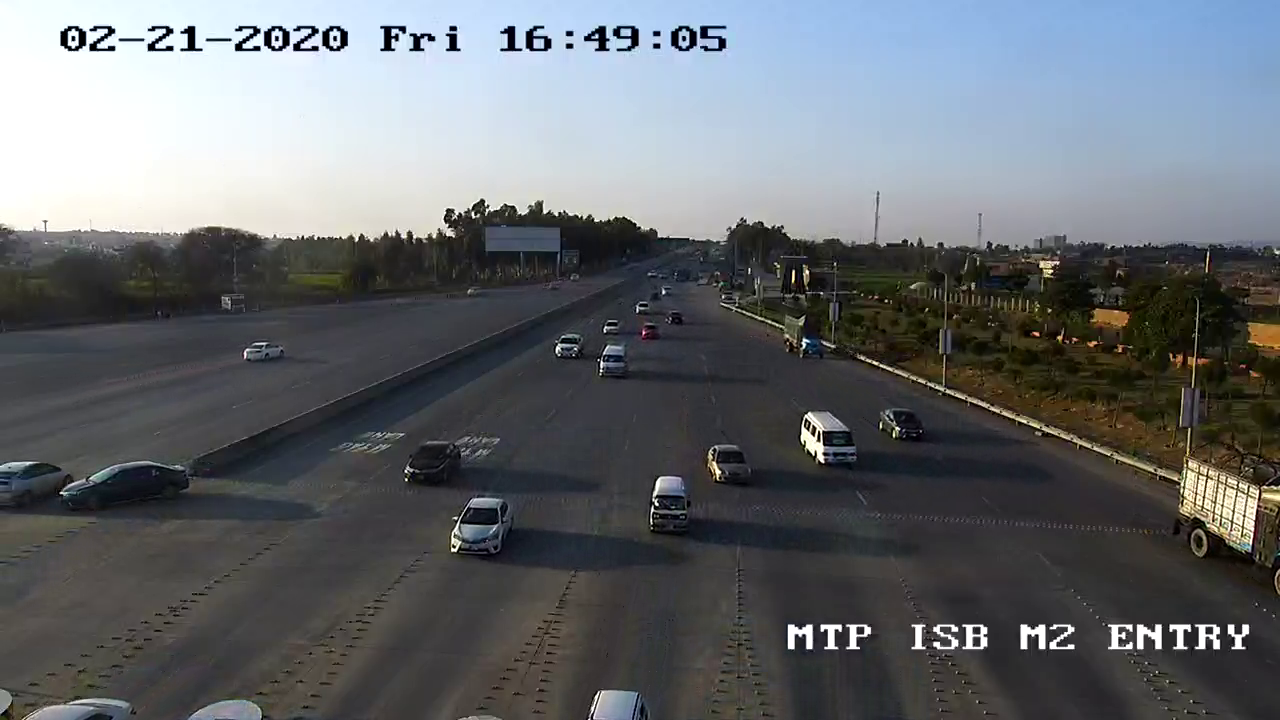f1: (445, 492, 517, 569), (865, 386, 939, 452), (637, 469, 700, 541), (397, 435, 469, 494), (699, 429, 762, 495)
f2: (792, 404, 866, 478)
